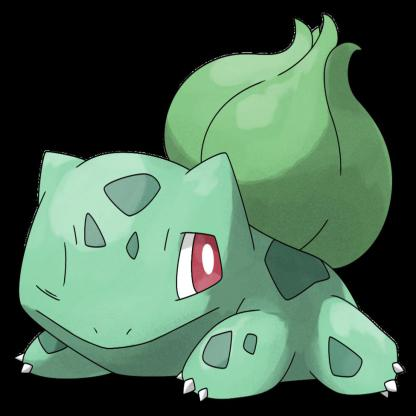Bulbasaur: (28, 16, 416, 416)
